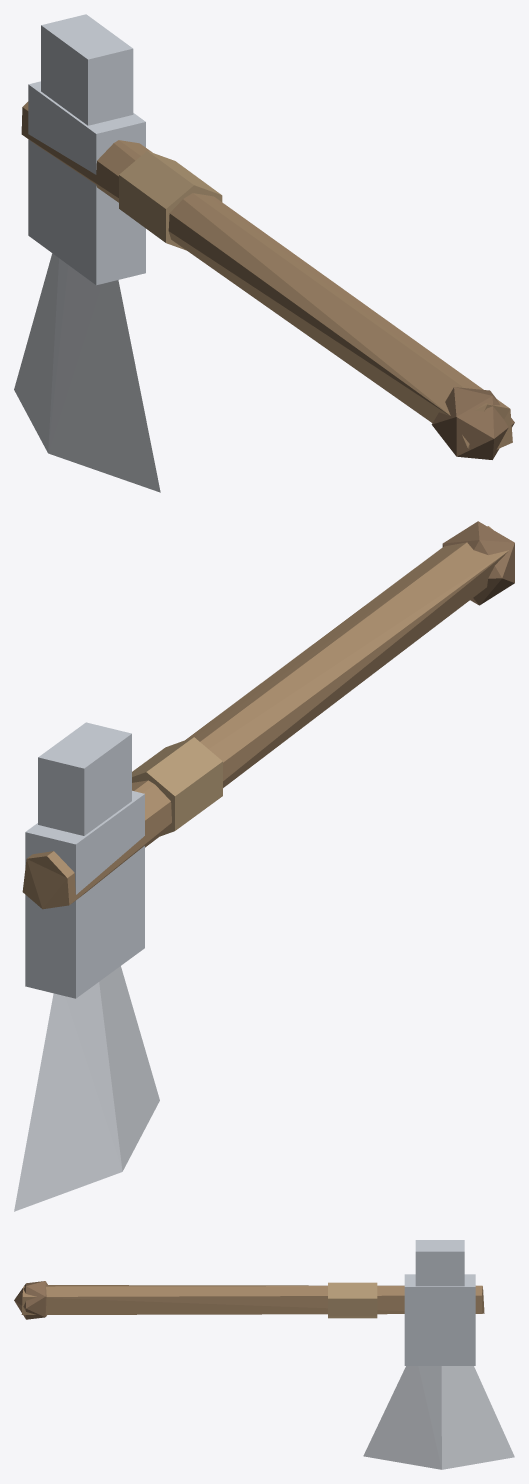
The model's file is Axe.fbx.
The picture shows the model from 3 angles, top to bottom: view 1: azimuth 30°, elevation 25°; view 2: azimuth 150°, elevation 25°; view 3: azimuth 270°, elevation 25°; orthographic projection. The views are drawn at different scales.
Visible parts, largest first — view 1: fam_iron, fam_wood, fam_steel, fam_leather, fam_wood_dark; view 2: fam_iron, fam_wood, fam_steel, fam_leather, fam_wood_dark; view 3: fam_steel, fam_wood, fam_iron, fam_leather, fam_wood_dark.
Boxes of the visible parts, <box> form: fam_iron: <box>28,14,145,285</box>; fam_wood: <box>21,101,512,449</box>; fam_steel: <box>14,253,160,492</box>; fam_leather: <box>119,151,222,250</box>; fam_wood_dark: <box>431,387,514,459</box>; fam_iron: <box>25,722,144,998</box>; fam_wood: <box>22,526,508,909</box>; fam_steel: <box>14,966,159,1211</box>; fam_leather: <box>132,737,222,836</box>; fam_wood_dark: <box>442,521,514,605</box>; fam_steel: <box>363,1366,514,1469</box>; fam_wood: <box>21,1285,484,1314</box>; fam_iron: <box>404,1240,475,1365</box>; fam_leather: <box>328,1282,377,1318</box>; fam_wood_dark: <box>14,1281,48,1319</box>.
Size of the model in its own units: 0.2899 by 1.52 by 3.21.
